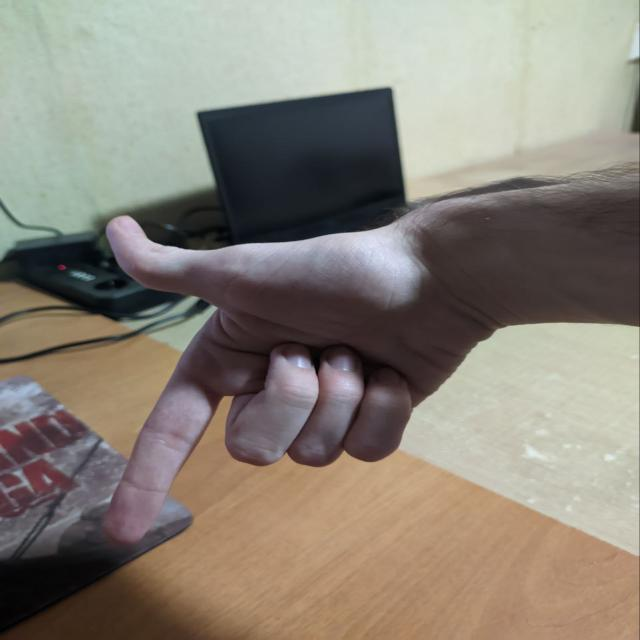g: (78, 210, 428, 543)
